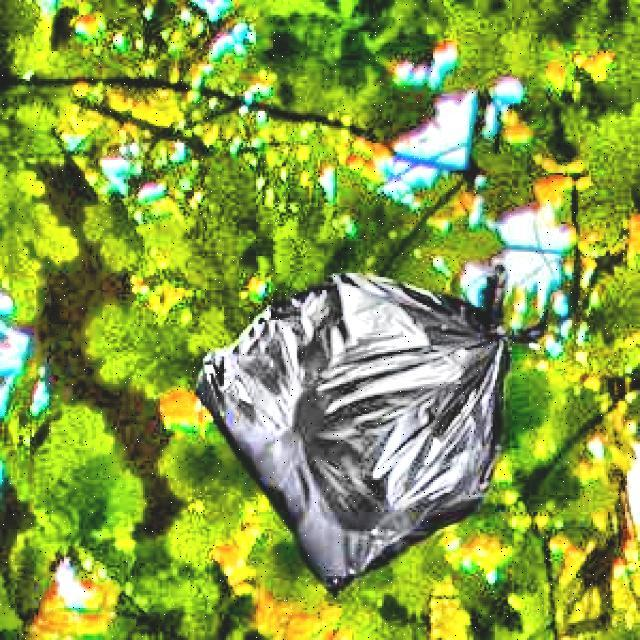Trashbag: (186, 248, 575, 598)
